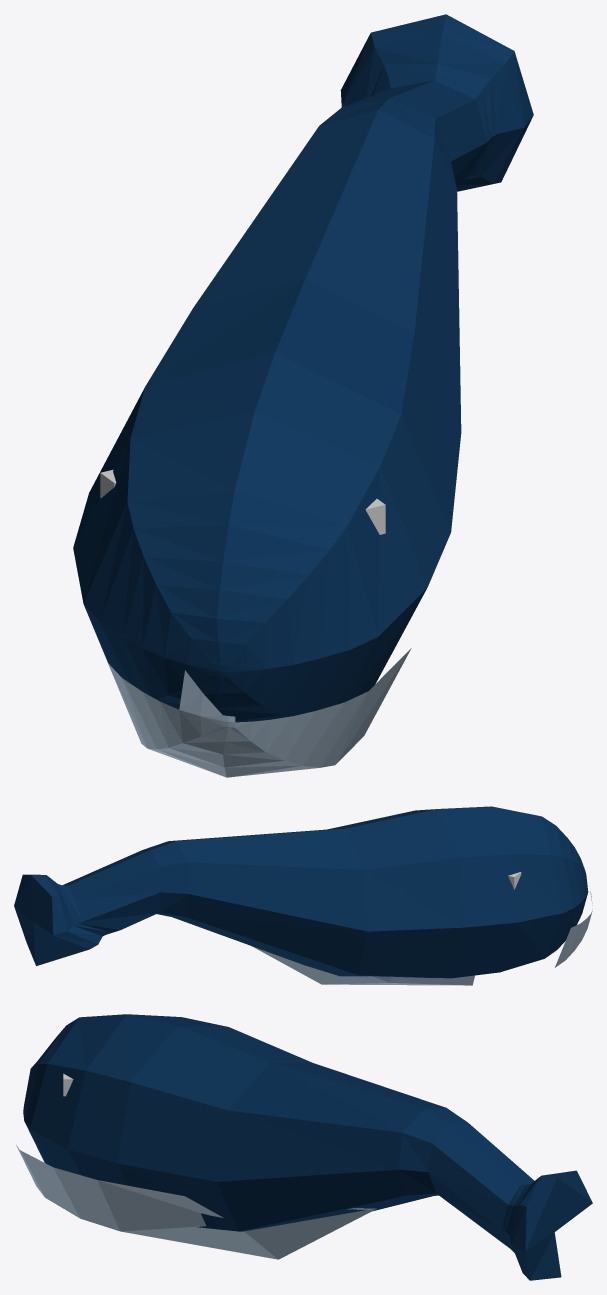
File: Whales.glb
3 renders of one model, top to bottom at view 1: azimuth 30°, elevation 25°; view 2: azimuth 150°, elevation 25°; view 3: azimuth 270°, elevation 25°, orthographic. The views are drawn at different scales.
Parts seen in each view (by area): view 1: Cube, Cube.001; view 2: Cube, Cube.001; view 3: Cube, Cube.001.
Part boxes in pixels (left/top/right/bottom): Cube: left=73, top=14, right=533, bottom=722; Cube.001: left=108, top=648, right=411, bottom=777; Cube: left=14, top=806, right=588, bottom=978; Cube.001: left=252, top=891, right=592, bottom=985; Cube: left=23, top=1014, right=592, bottom=1280; Cube.001: left=16, top=1144, right=376, bottom=1259.
Size of the model in its own units: 1.45 by 0.6373 by 1.59.
